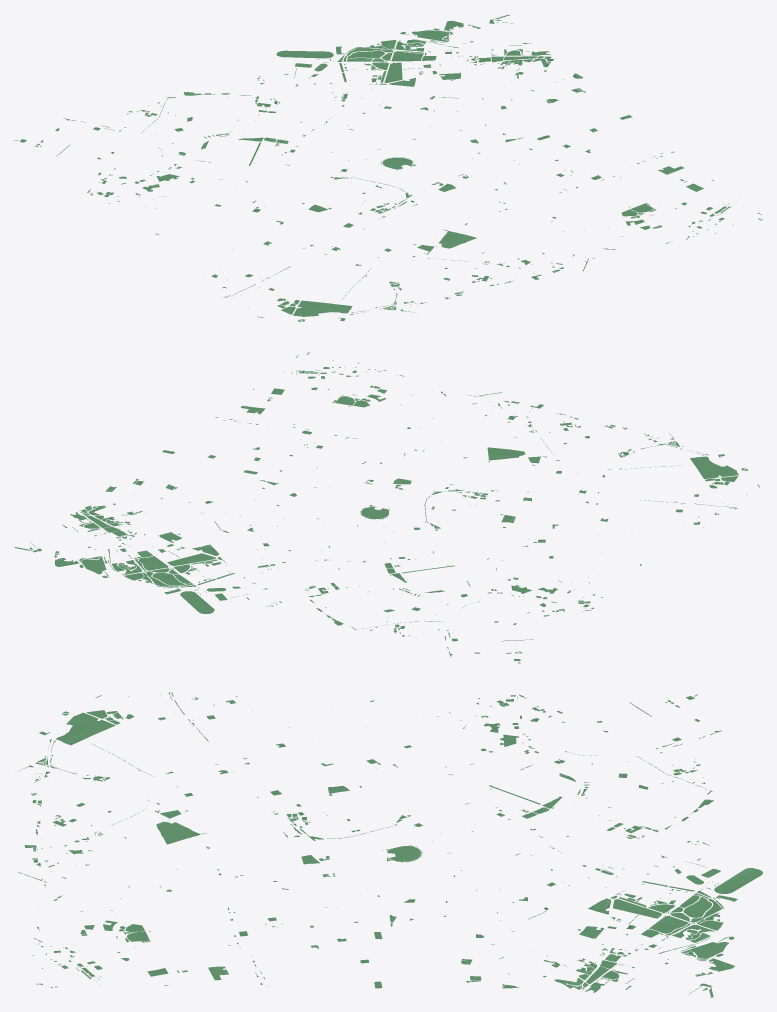
The model's file is green.glb.
The picture shows the model from 3 angles, top to bottom: view 1: azimuth 30°, elevation 25°; view 2: azimuth 150°, elevation 25°; view 3: azimuth 270°, elevation 25°; orthographic projection. The views are drawn at different scales.
Parts seen in each view (by area): view 1: green; view 2: green; view 3: green.
Part boxes in pixels (x1,y1,x2,y2): green: (14, 14, 762, 321); green: (14, 352, 759, 663); green: (15, 692, 762, 997).
Size of the model in its own units: 9650 by 58.78 by 10032.
